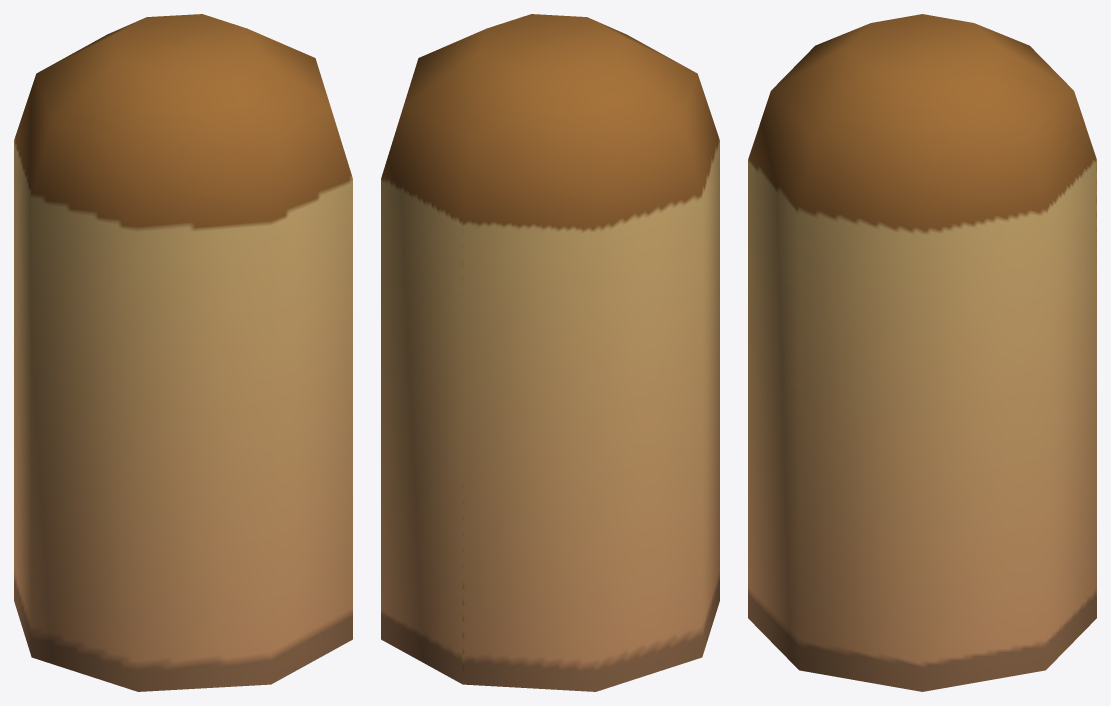
File: EnemyProjectile.fbx
3 views of the same model, side by side, from view 1: azimuth 30°, elevation 25°; view 2: azimuth 150°, elevation 25°; view 3: azimuth 270°, elevation 25° (orthographic).
Parts seen in each view (by area): view 1: Sphere; view 2: Sphere; view 3: Sphere.
Boxes of the visible parts, <box> form: Sphere: <box>14,14,352,691</box>; Sphere: <box>381,14,719,691</box>; Sphere: <box>748,14,1096,691</box>.
Bounding box in the file's own units: 0.054 × 0.098 × 0.054.
